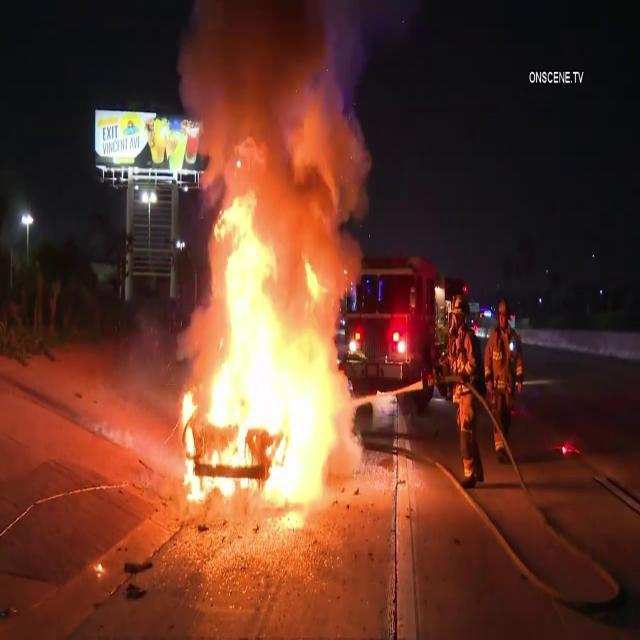Fire: (175, 180, 343, 509)
Smoke: (176, 0, 375, 261)
